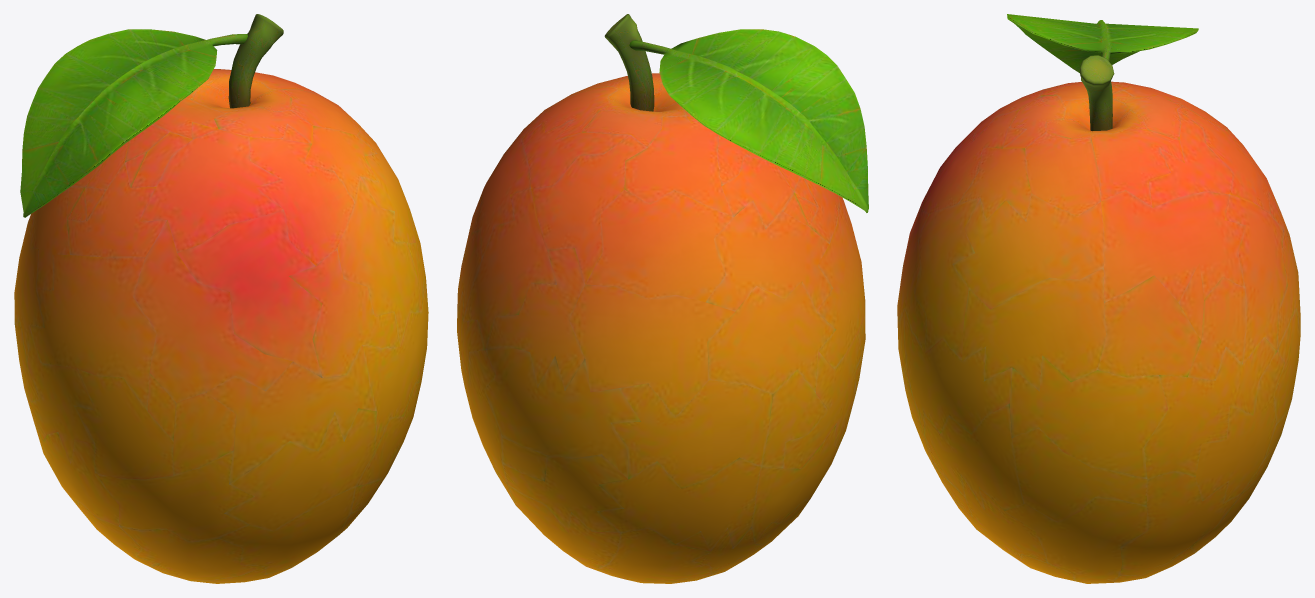
File: b01_mango.glb
3 views of the same model, side by side, from view 1: azimuth 30°, elevation 25°; view 2: azimuth 150°, elevation 25°; view 3: azimuth 270°, elevation 25° (orthographic). The views are drawn at different scales.
Parts seen in each view (by area): view 1: geometry_0; view 2: geometry_0; view 3: geometry_0.
Boxes of the visible parts, bbox=[...] form: geometry_0: bbox=[14, 14, 428, 583]; geometry_0: bbox=[457, 14, 868, 583]; geometry_0: bbox=[897, 14, 1300, 583].
Bounding box in the file's own units: 0.6943 × 0.9512 × 0.6533.
Materials: 1 (1 with a texture image).
